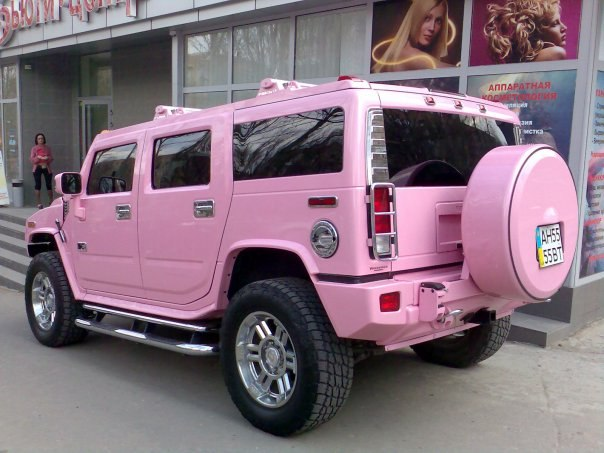car: (23, 77, 579, 438)
plate: (534, 222, 565, 266)
